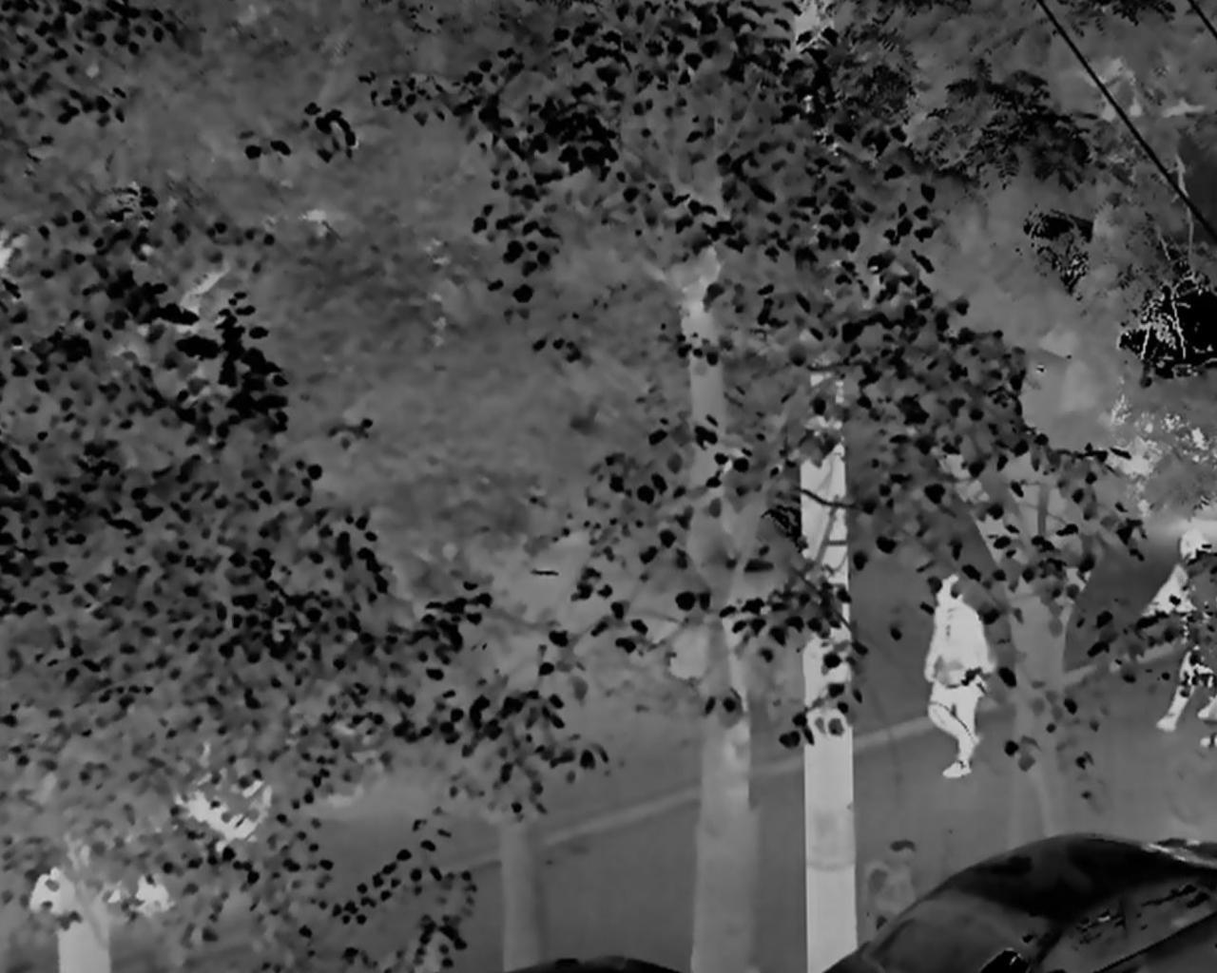person: (1151, 528, 1217, 733), (925, 574, 991, 778)
